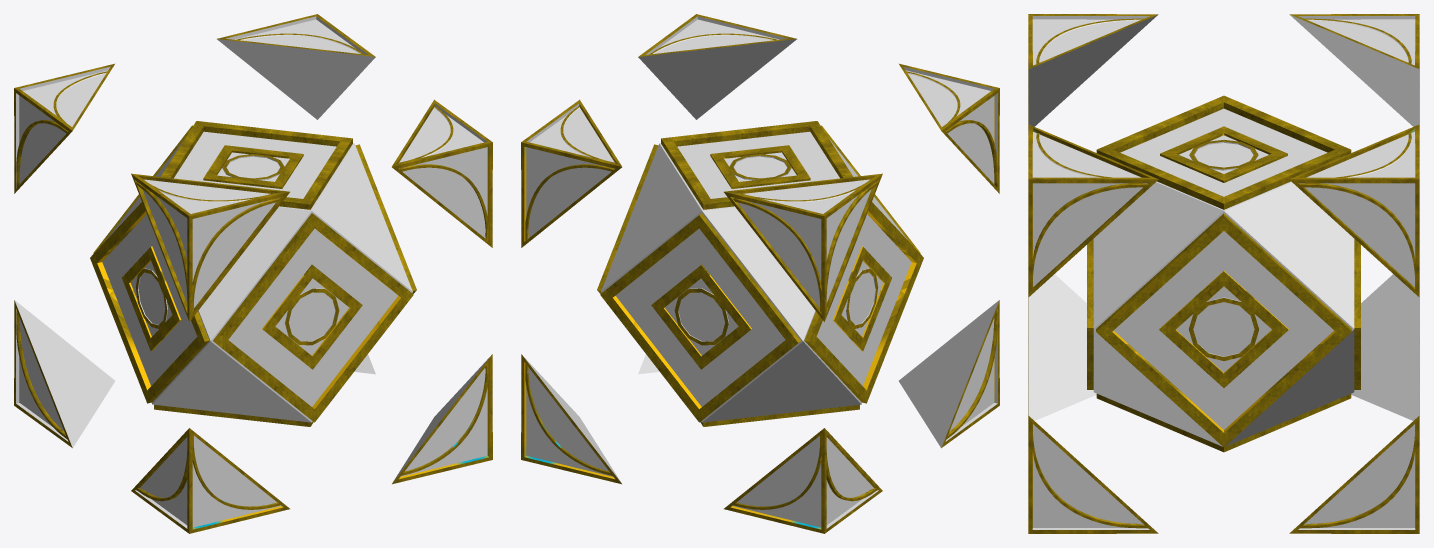
The model's file is HolocronJedi_V3_opened.fbx.
3 views of the same model, side by side, from view 1: azimuth 30°, elevation 25°; view 2: azimuth 150°, elevation 25°; view 3: azimuth 270°, elevation 25° (orthographic). The views are drawn at different scales.
Visible parts, largest first — view 1: Holocron_Main, Holocron_Parts.006, Holocron_Parts, Holocron_Parts.005, Holocron_Parts.001, Holocron_Parts.004, Holocron_Parts.002, Holocron_Parts.007; view 2: Holocron_Main, Holocron_Parts.007, Holocron_Parts.001, Holocron_Parts.004, Holocron_Parts, Holocron_Parts.005, Holocron_Parts.003, Holocron_Parts.006; view 3: Holocron_Main, Holocron_Parts.001, Holocron_Parts.005, Holocron_Parts.002, Holocron_Parts.003, Holocron_Parts.006, Holocron_Parts.007, Holocron_Parts, Holocron_Parts.004.
Boxes of the visible parts, <box> form: Holocron_Main: <box>90,121,416,426</box>; Holocron_Parts.006: <box>131,173,289,321</box>; Holocron_Parts: <box>131,428,289,533</box>; Holocron_Parts.005: <box>217,14,375,119</box>; Holocron_Parts.001: <box>392,99,492,247</box>; Holocron_Parts.004: <box>14,300,114,448</box>; Holocron_Parts.002: <box>392,354,492,484</box>; Holocron_Parts.007: <box>14,63,114,193</box>; Holocron_Main: <box>597,121,923,426</box>; Holocron_Parts.007: <box>724,173,882,321</box>; Holocron_Parts.001: <box>638,14,796,119</box>; Holocron_Parts.004: <box>724,428,882,533</box>; Holocron_Parts: <box>899,300,999,448</box>; Holocron_Parts.005: <box>521,99,621,247</box>; Holocron_Parts.003: <box>521,354,621,484</box>; Holocron_Parts.006: <box>899,63,999,193</box>; Holocron_Main: <box>1087,95,1360,452</box>; Holocron_Parts.001: <box>1028,124,1158,296</box>; Holocron_Parts.005: <box>1289,124,1419,296</box>; Holocron_Parts.002: <box>1028,416,1158,533</box>; Holocron_Parts.003: <box>1289,416,1419,533</box>; Holocron_Parts.006: <box>1028,14,1158,126</box>; Holocron_Parts.007: <box>1289,14,1419,126</box>; Holocron_Parts: <box>1028,274,1096,420</box>; Holocron_Parts.004: <box>1351,274,1419,420</box>.
Bounding box in the file's own units: 600 × 600 × 600.
4 materials, 2 textured.
